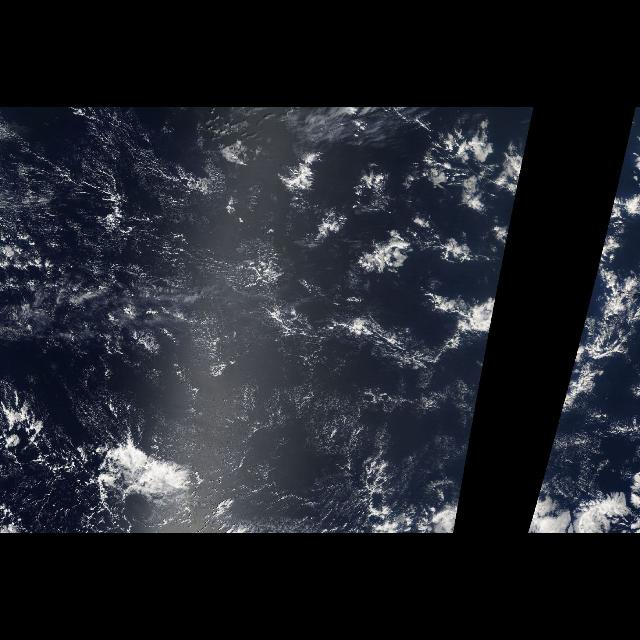Flower: (268, 138, 528, 350), (576, 302, 588, 350)
Gravel: (11, 134, 219, 388)
Sugar: (149, 277, 477, 533)
